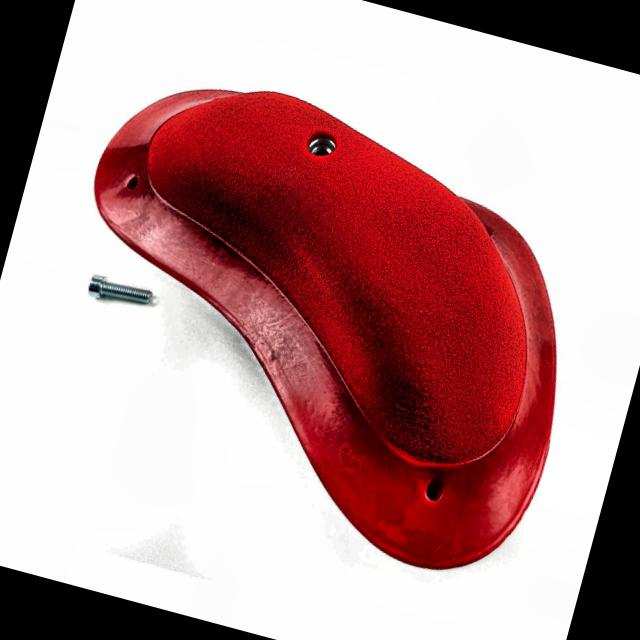Hold: (69, 68, 568, 597)
